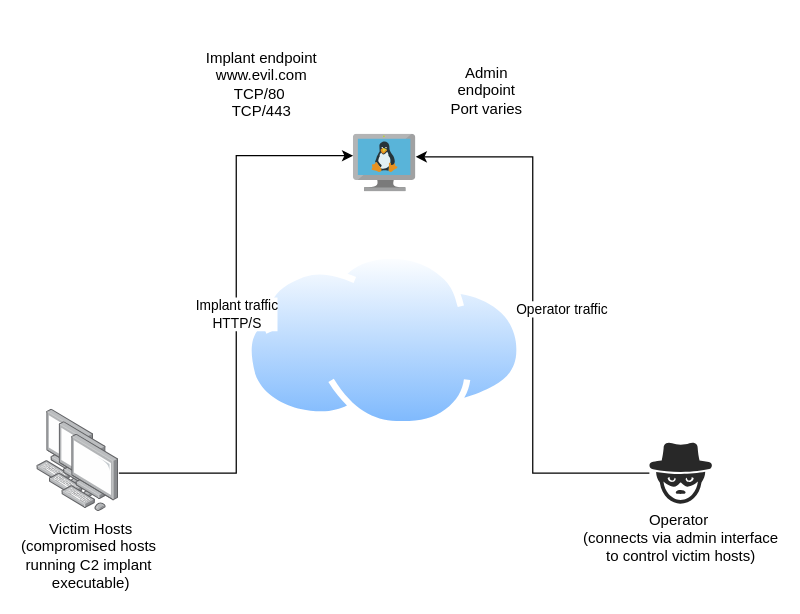
The diagram is 800 pixels wide and 614 high, and some of its shapes have lost their labels. Here are the shapes that lost their labels. From the top down, the box of each, then its label:
(353, 134, 415, 191): C2 Server
(245, 252, 523, 428): Internet
